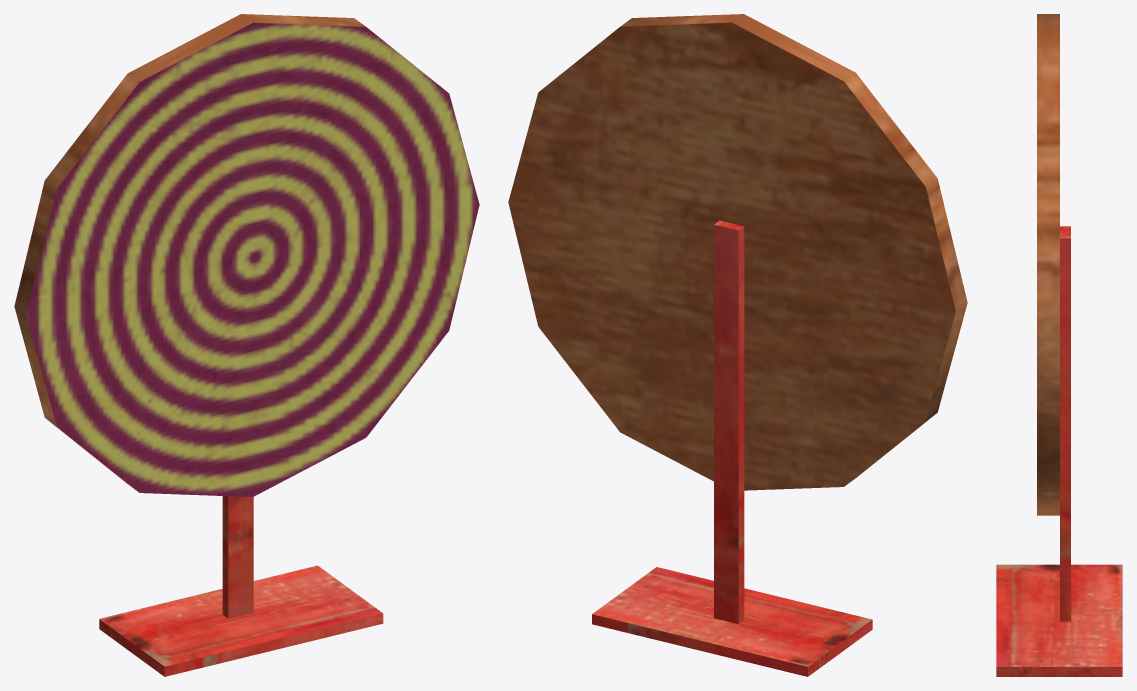
File: circus_target.FBX
3 views of the same model, side by side, from view 1: azimuth 30°, elevation 25°; view 2: azimuth 150°, elevation 25°; view 3: azimuth 270°, elevation 25° (orthographic). The views are drawn at different scales.
Parts seen in each view (by area): view 1: target, target_base; view 2: target, target_base; view 3: target_base, target.
Part boxes in pixels (x1,y1,x2,y2): target: (14, 14, 479, 496); target_base: (99, 496, 383, 676); target: (508, 14, 967, 490); target_base: (592, 220, 872, 676); target_base: (996, 226, 1122, 676); target: (1037, 14, 1059, 515).
Size of the model in its own units: 210 by 271 by 52.49.
